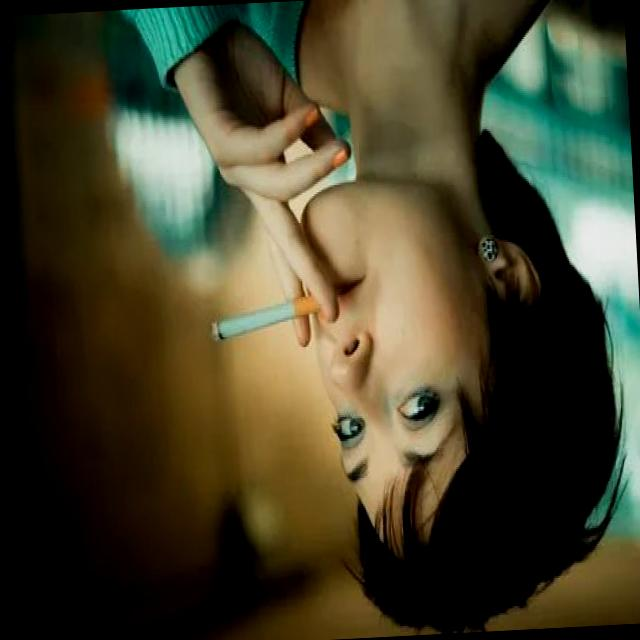cigarette: (202, 279, 342, 350)
